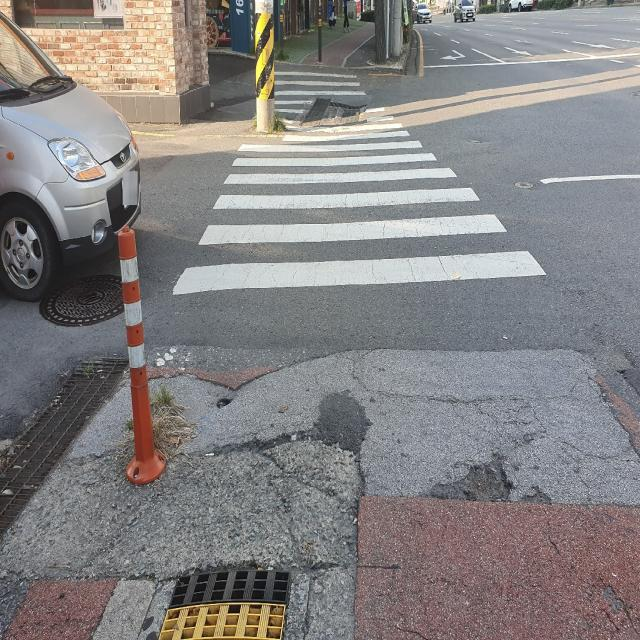횡단보도: (173, 72, 546, 296)
